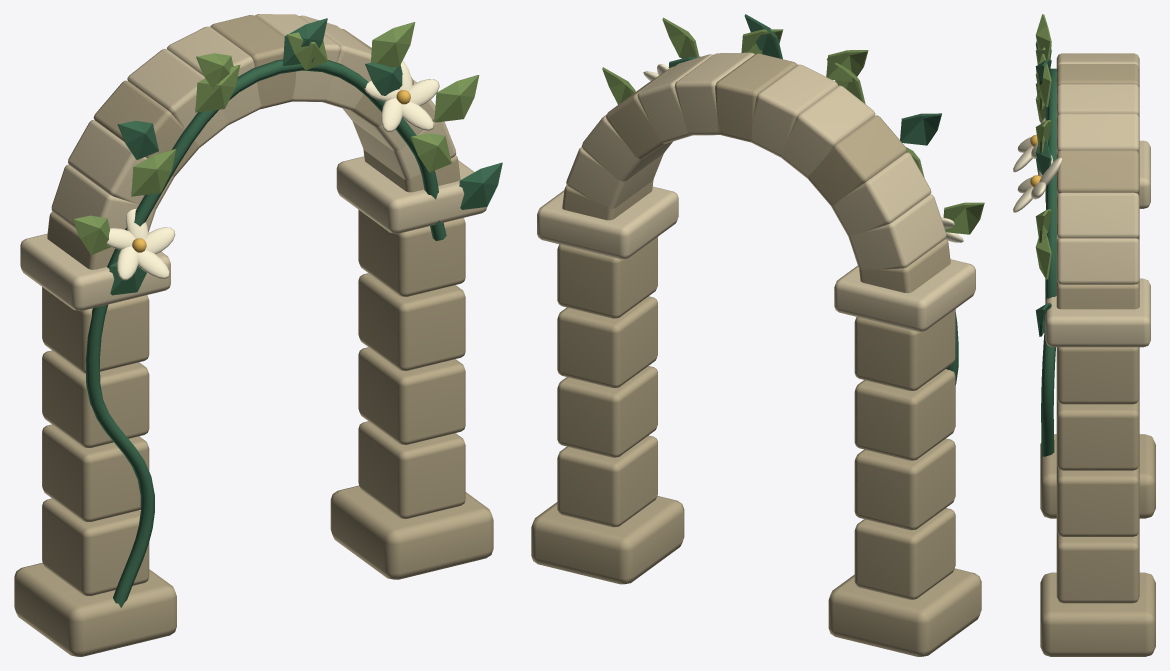
File: garden_gate.glb
3 views of the same model, side by side, from view 1: azimuth 30°, elevation 25°; view 2: azimuth 150°, elevation 25°; view 3: azimuth 270°, elevation 25° (orthographic). The views are drawn at different scales.
Visible parts, largest first — view 1: LimestoneArch; view 2: LimestoneArch; view 3: LimestoneArch, Sculpted petal.021, Sculpted petal.024, Sculpted petal.019.
Boxes of the visible parts, left/top/right/bottom form: LimestoneArch: left=14, top=14, right=502, bottom=656; LimestoneArch: left=531, top=14, right=984, bottom=656; LimestoneArch: left=1035, top=14, right=1155, bottom=656; Sculpted petal.021: left=1039, top=157, right=1062, bottom=185; Sculpted petal.024: left=1013, top=186, right=1033, bottom=212; Sculpted petal.019: left=1013, top=145, right=1033, bottom=172.
Bounding box in the file's own units: 2.31 × 2.99 × 0.7416.
